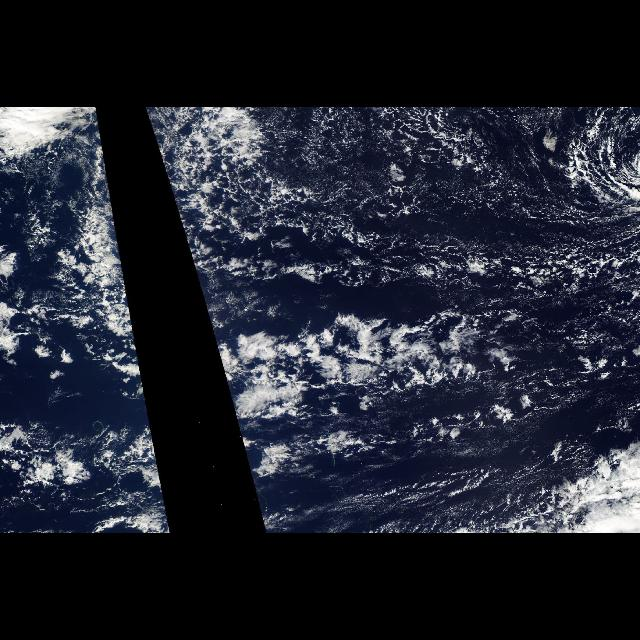Fish: (172, 192, 530, 482), (71, 192, 161, 482)
Gravel: (168, 108, 640, 338)
